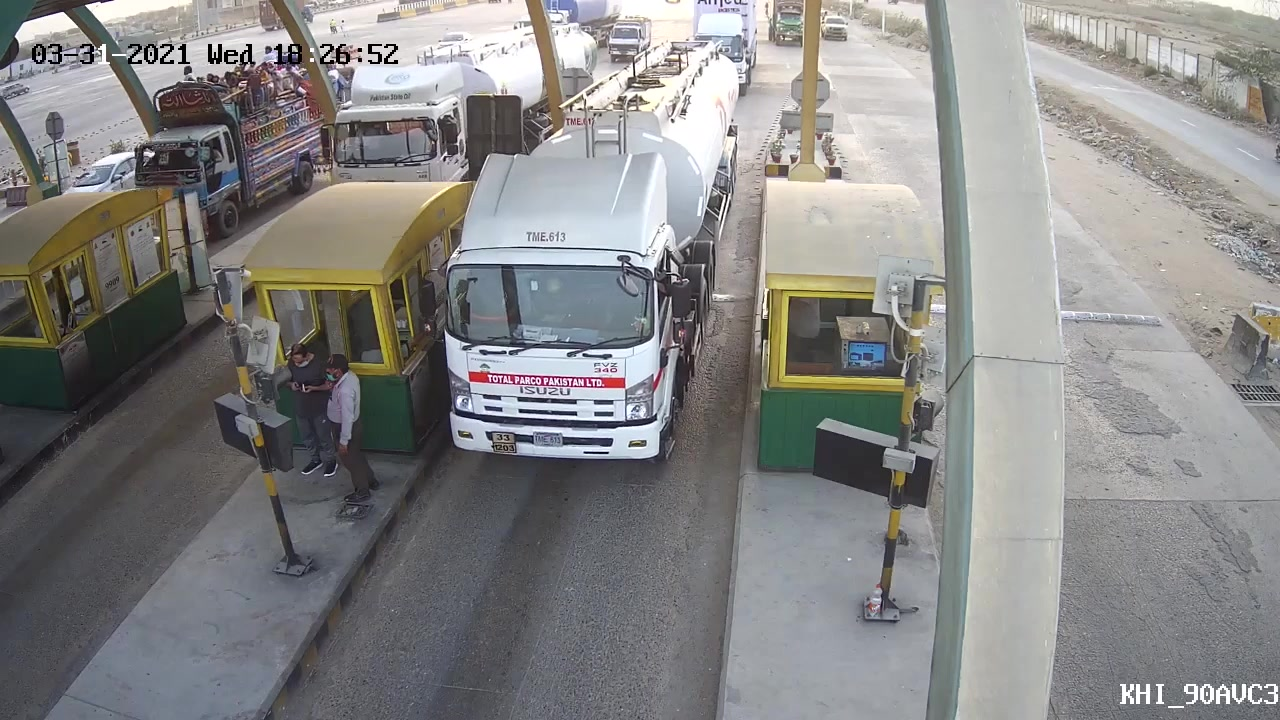F6: (415, 54, 738, 468)
